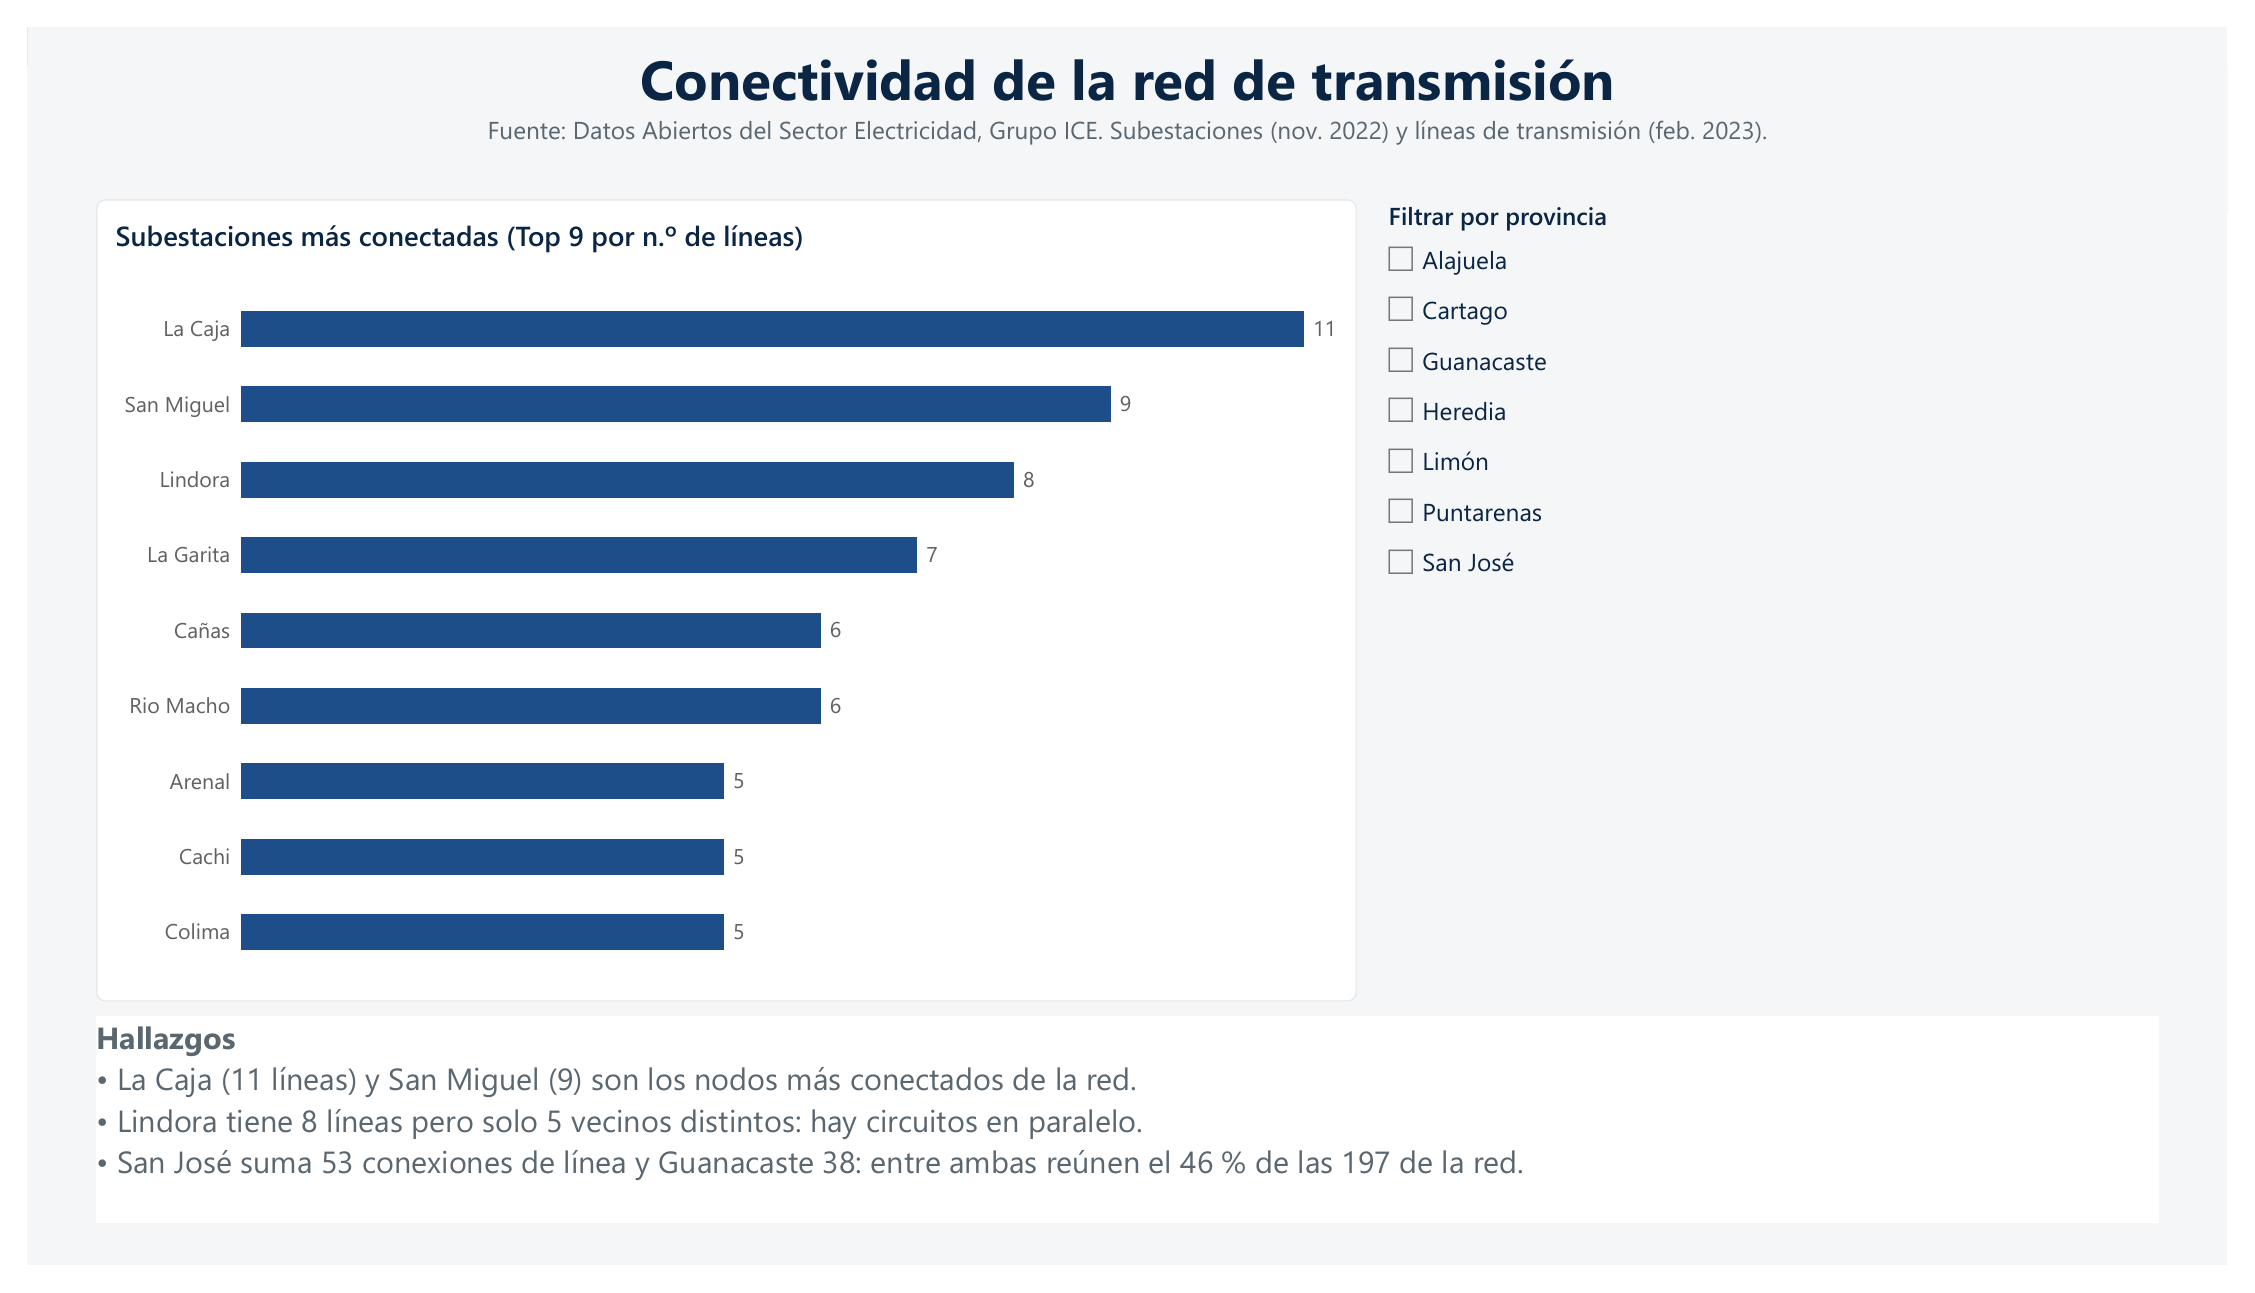

What the dashboard file says about the page in this screenshot:
{"tool":"powerbi","page":{"name":"Conectividad","canvas":[1920,1080],"ordinal":1},"visuals":[{"type":"textbox","box":[60,12,1800,64],"z":0},{"type":"textbox","box":[60,75,1800,36],"z":1000},{"type":"textbox","box":[60,863,1800,180],"z":2000},{"type":"clusteredBarChart","title":"Subestaciones más conectadas (Top 9 por n.º de líneas)","fields":{"Category":["dim_subestaciones.subestacion"],"Y":["_Medidas.Líneas conectadas"]},"box":[60,150,1100,700],"z":3000},{"type":"slicer","fields":{"Values":["dim_subestaciones.provincia"]},"box":[1180,150,680,520],"z":3001}]}

Visuals, with their boxes in screenshot pixels (x1, y1, x2, y2), scaled from the page's 1920x1080 canvas onto the 2255x1293 screenshot:
textbox: bbox=[70, 14, 2185, 91]
textbox: bbox=[70, 90, 2185, 133]
textbox: bbox=[70, 1033, 2185, 1249]
"Subestaciones más conectadas (Top 9 por n.º de líneas)" clusteredBarChart: bbox=[70, 180, 1362, 1018]
slicer - dim_subestaciones.provincia: bbox=[1386, 180, 2185, 802]
